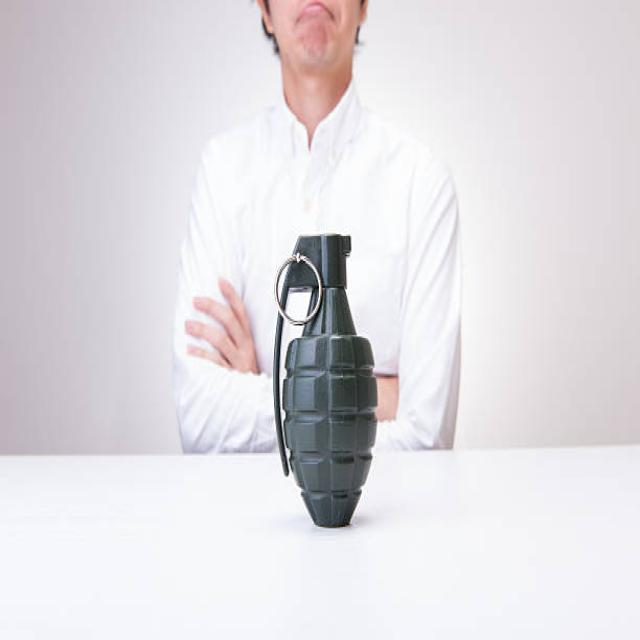grenade: (270, 228, 379, 534)
